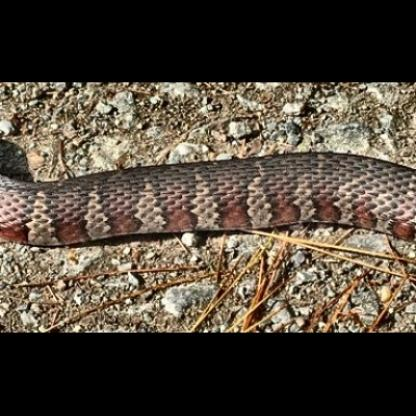Snake: (3, 101, 411, 257)
